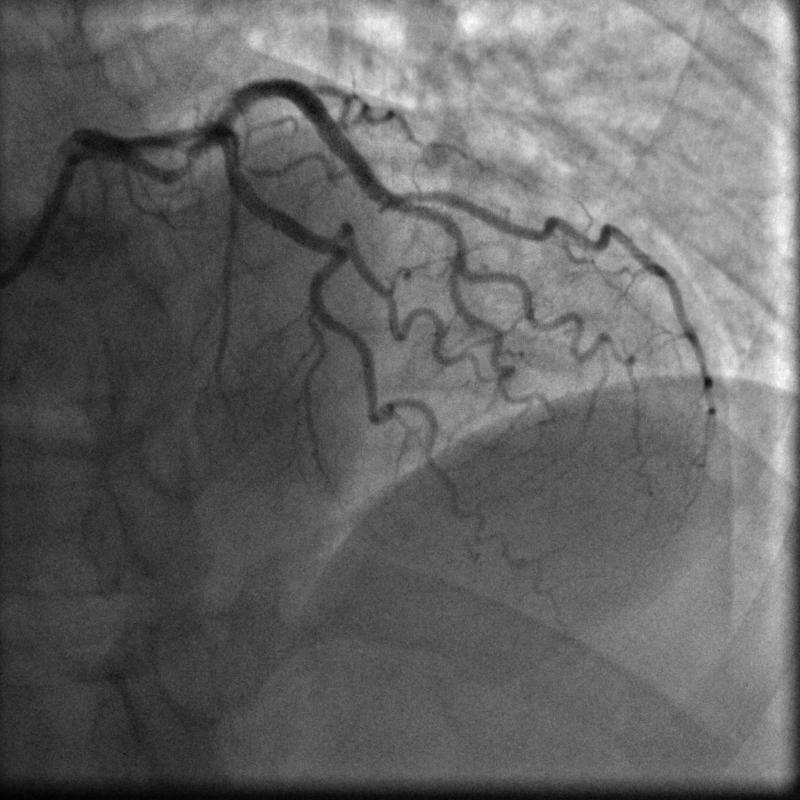Stenosis: (169, 146, 203, 177)
